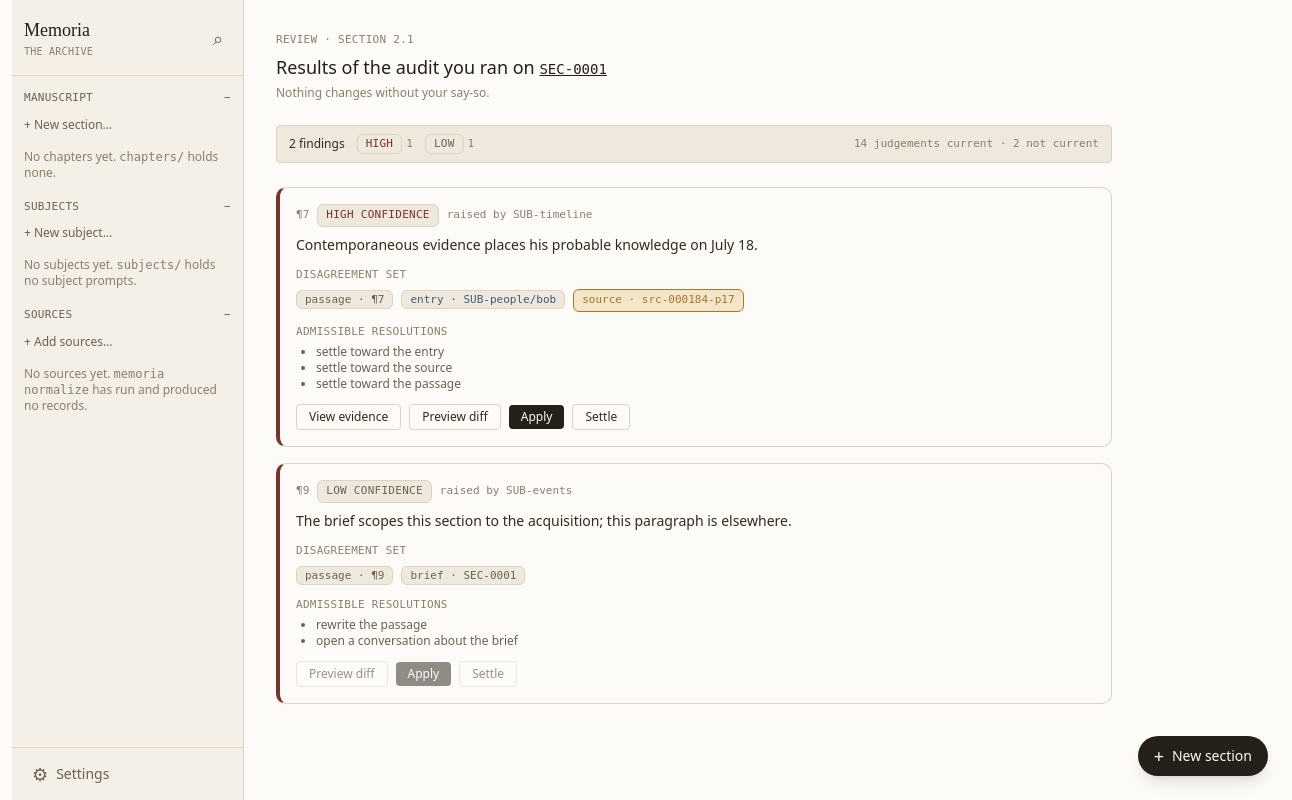
the Review surface › asks for the session in a text field when no session touched the section
Check: the text "Contemporaneous evidence places" is shown, box [296,235,758,254]
Step 1. Click the button "Settle" below "SUB-timeline" → x=601, y=417, box [572,404,630,430]
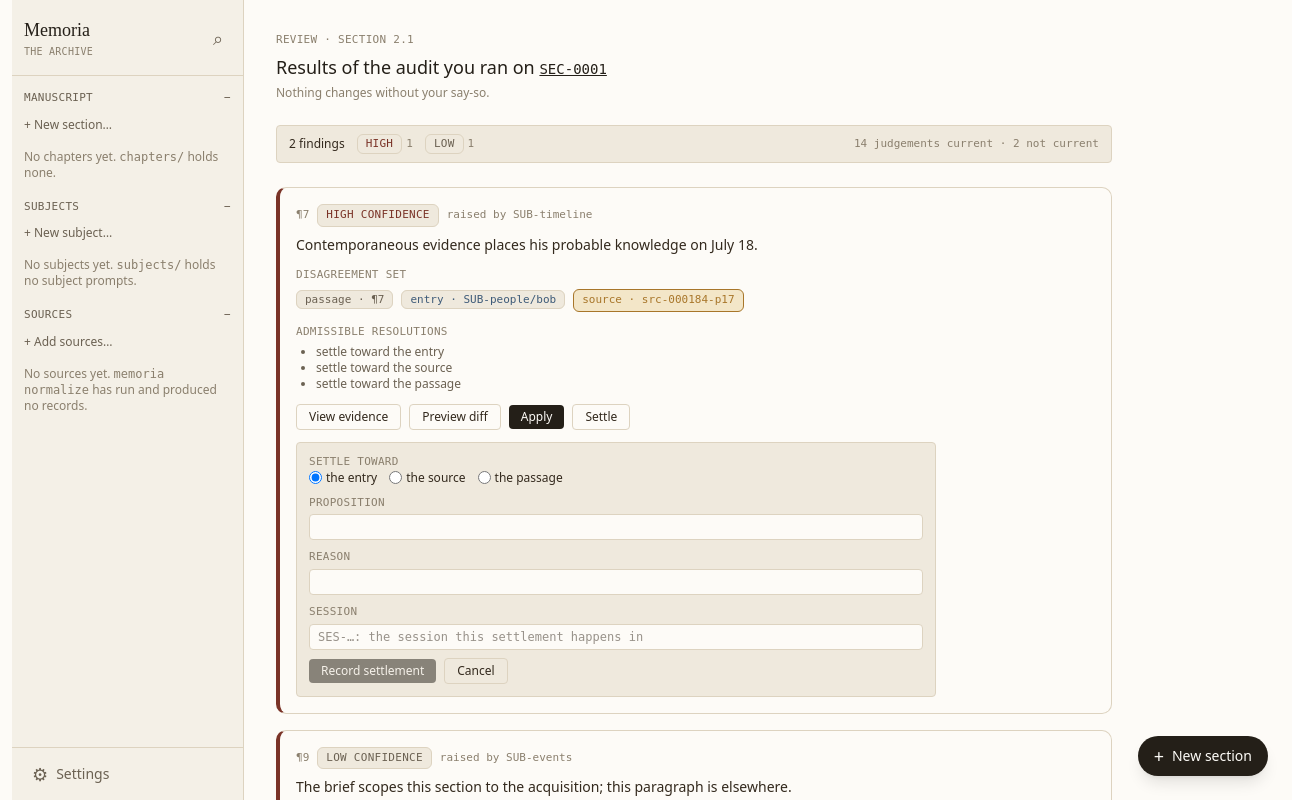
Step 2. Type "knew by July 18" into the field labelled "Proposition" → x=616, y=528, box [309,514,923,540]
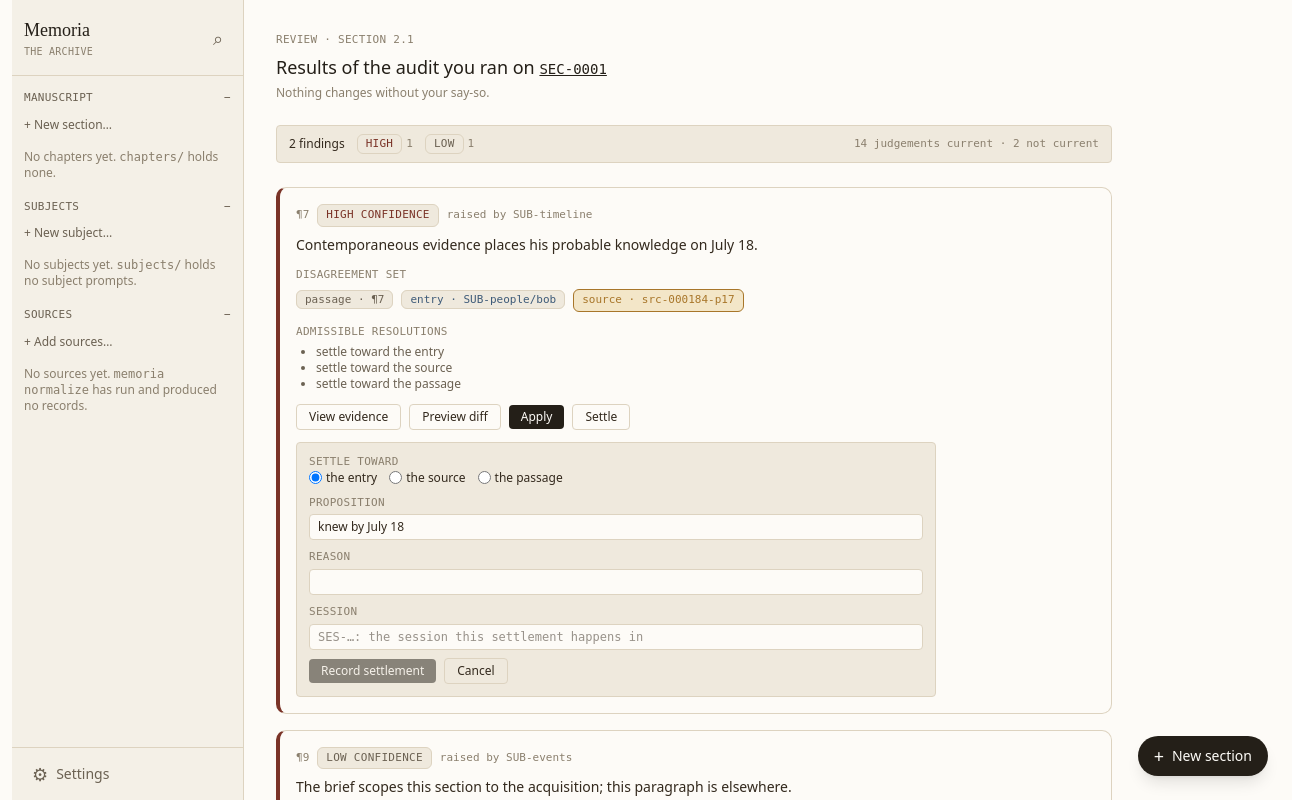
Step 3. Type "contemporaneous" into the field labelled "Reason" → x=616, y=582, box [309,569,923,595]
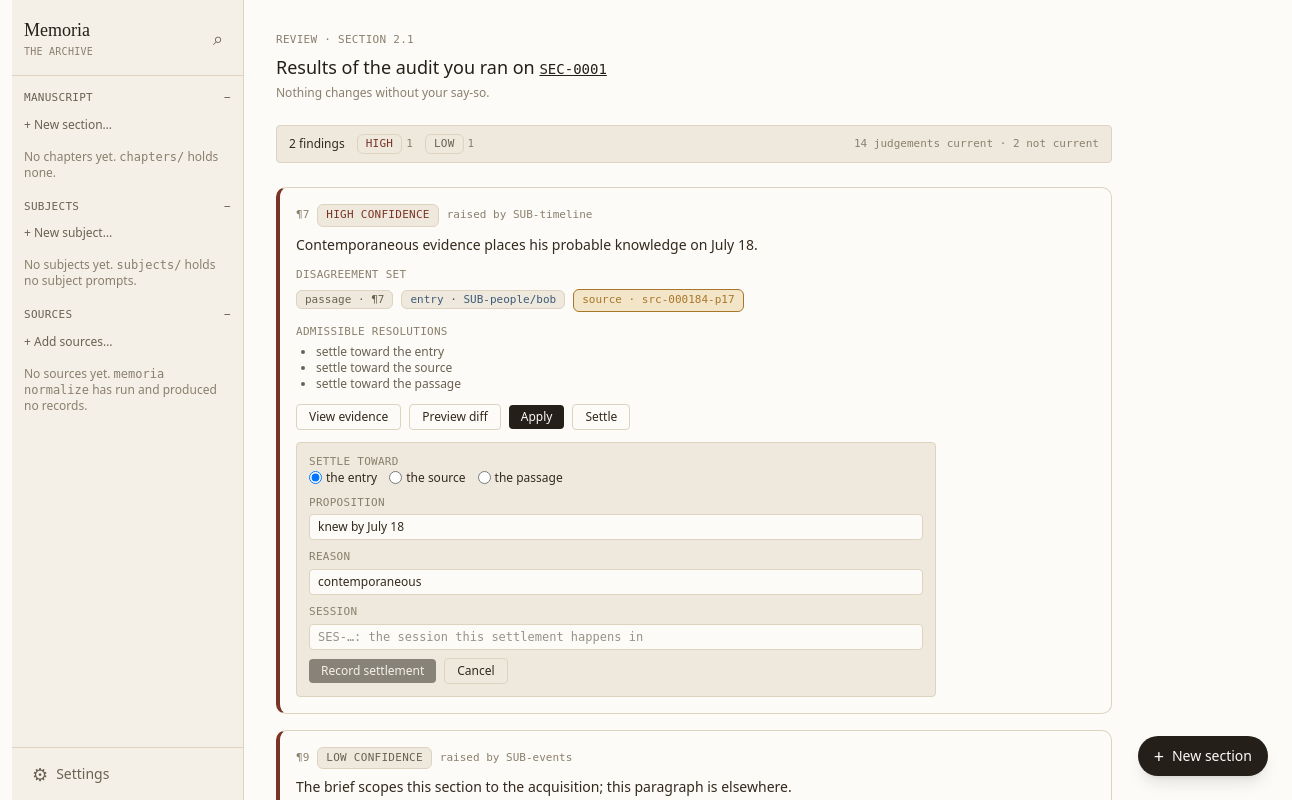
Check: the button "Record settlement" is disabled, box [309,659,436,683]
Step 4. Type "SES-20260913-0900" into the field labelled "Session" → x=616, y=637, box [309,624,923,650]
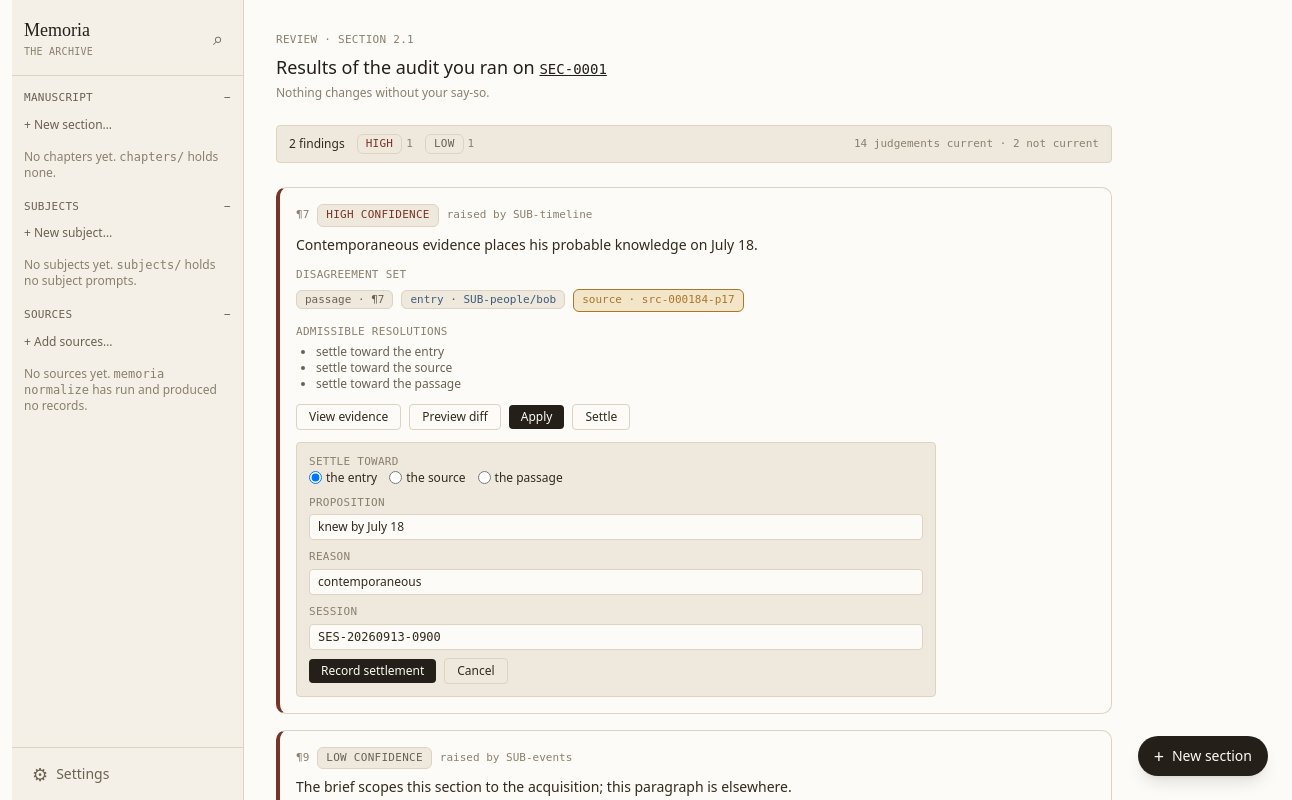
Check: the button "Record settlement" is enabled, box [309,659,436,683]
